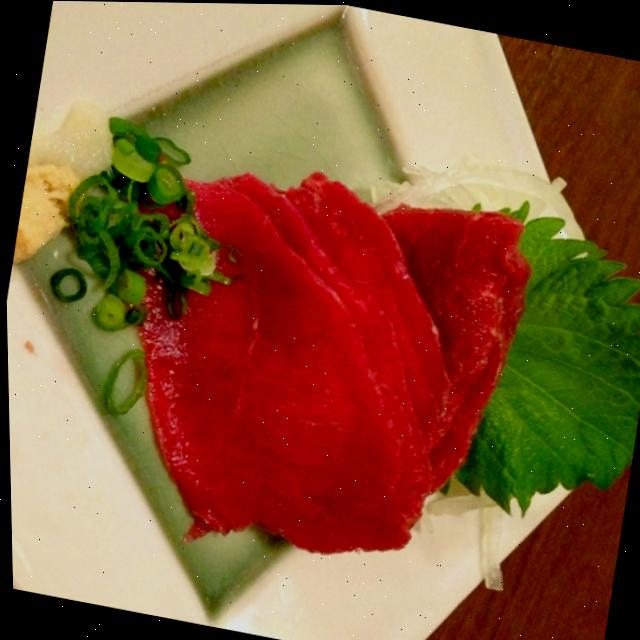刺身生食: (78, 112, 565, 602)
